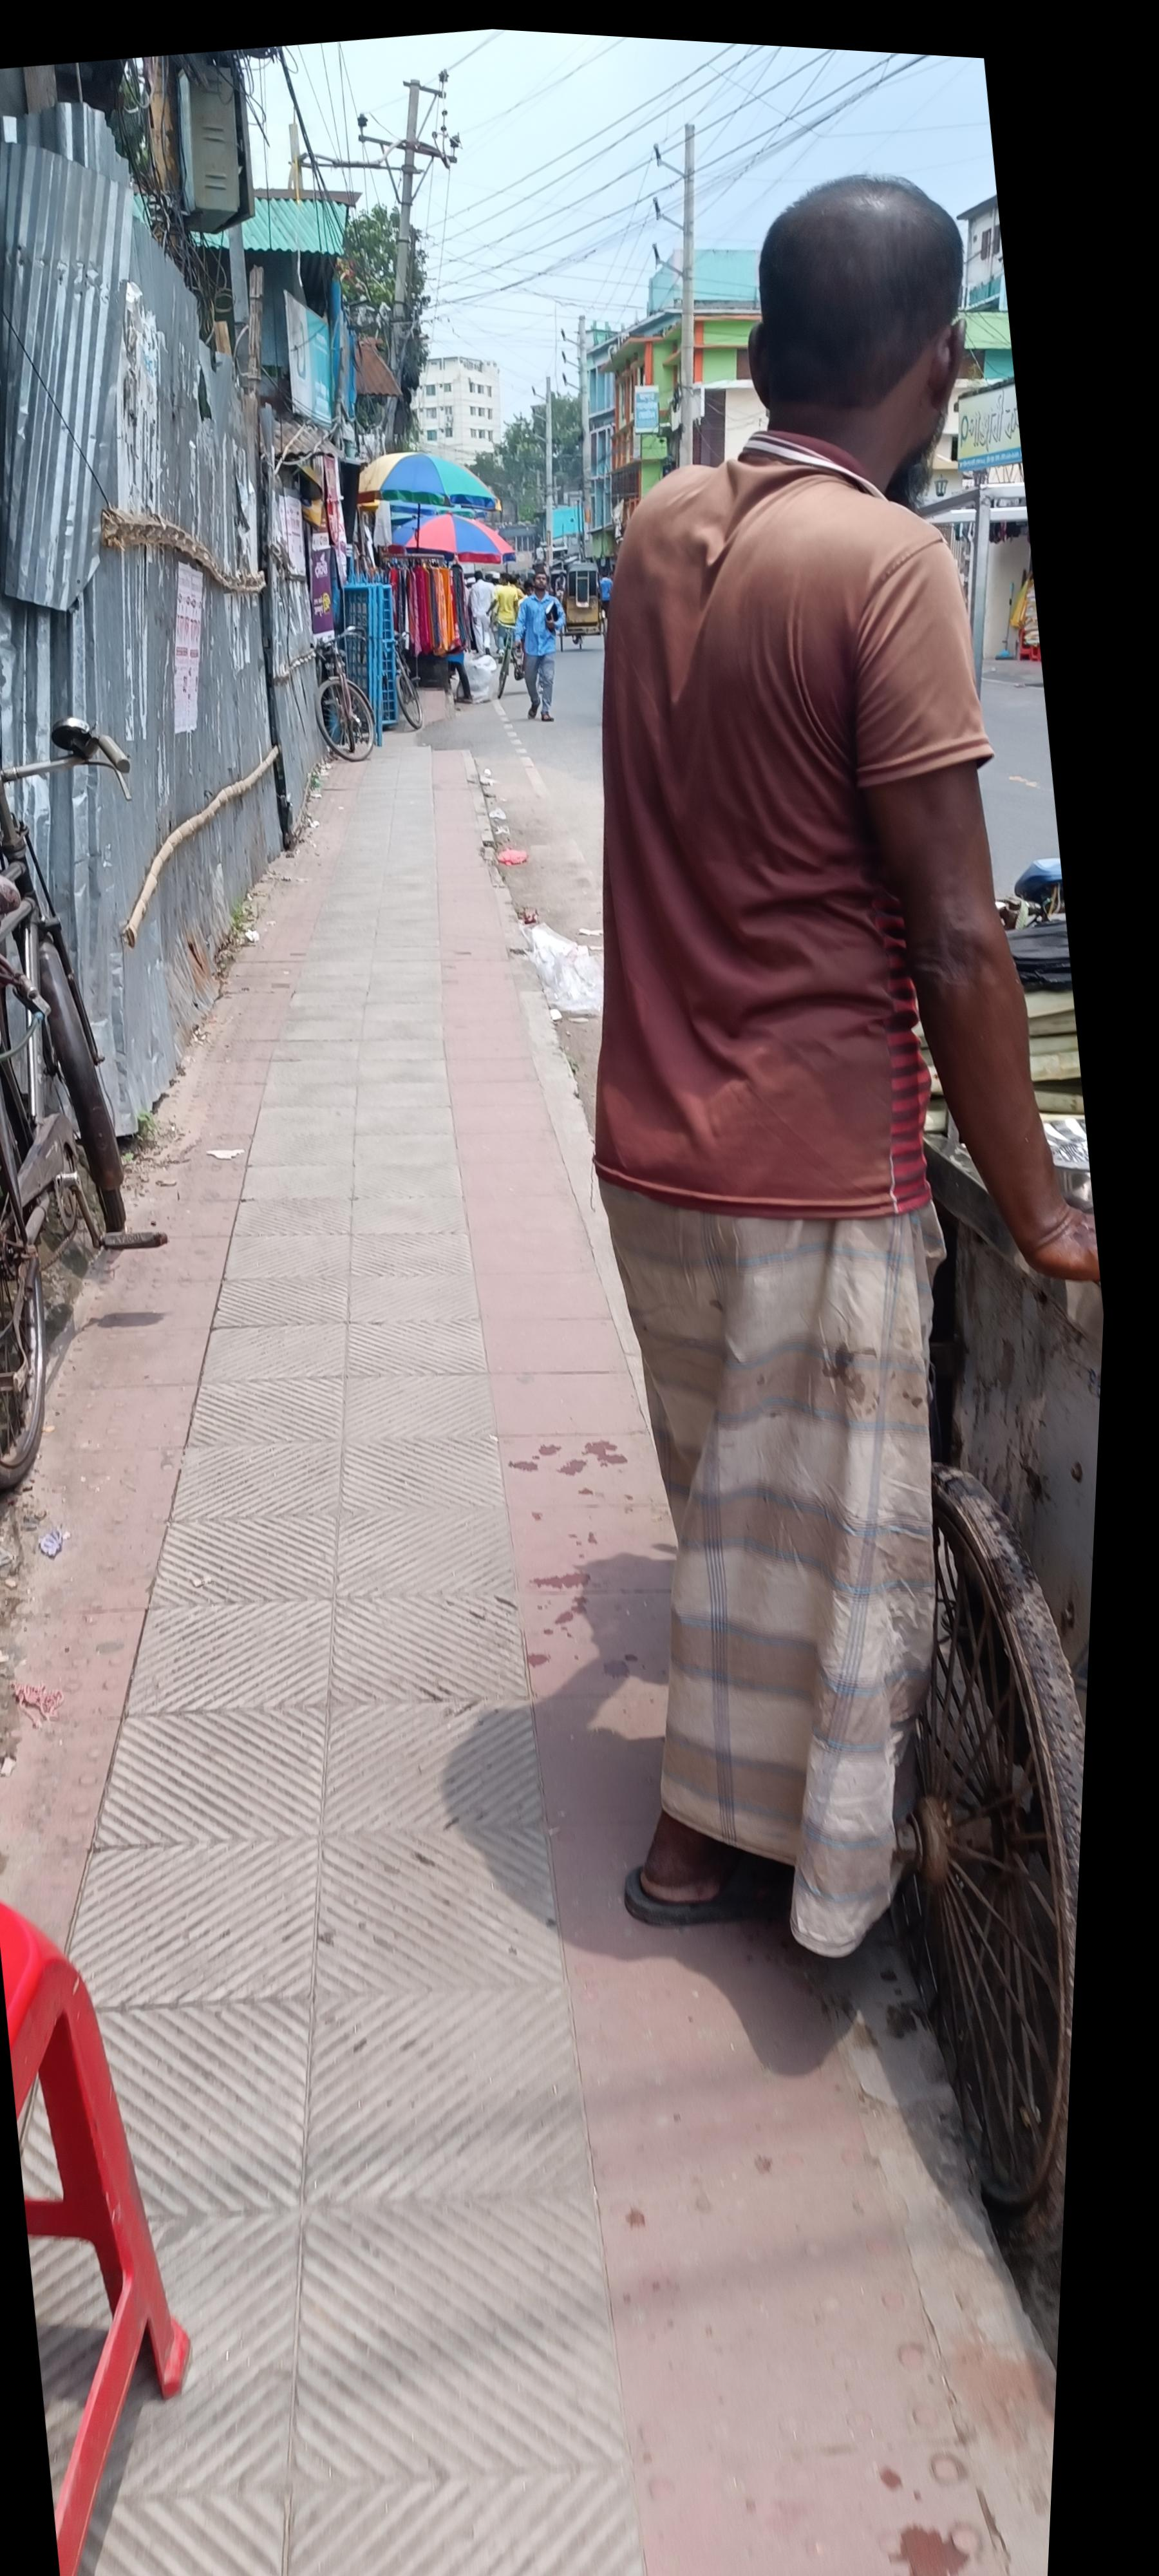Garbage-bin: (234, 206, 1072, 2072)
Pothole: (0, 630, 1049, 2576)
